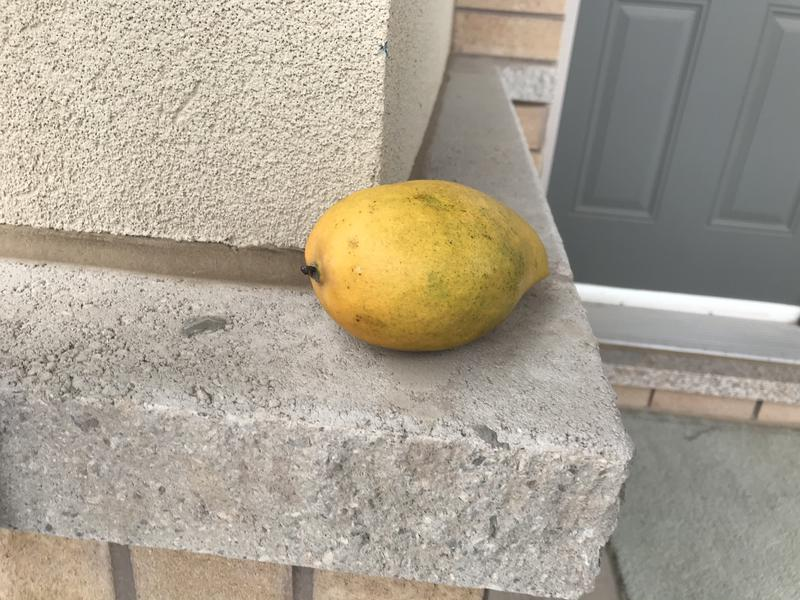mango: (296, 165, 561, 366)
